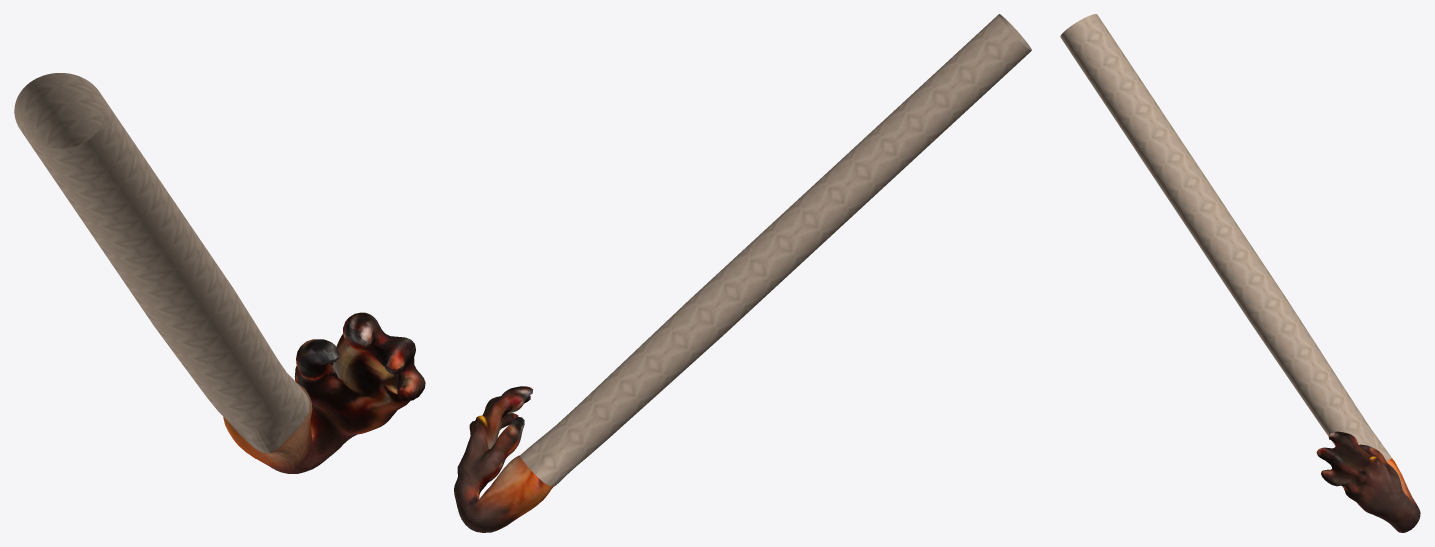
Rendered from fox-grip-v4.glb.
3 renders of one model, left to right at view 1: azimuth 30°, elevation 25°; view 2: azimuth 150°, elevation 25°; view 3: azimuth 270°, elevation 25°, orthographic. The views are drawn at different scales.
Visible parts, largest first — view 1: fox-card-grip; view 2: fox-card-grip; view 3: fox-card-grip.
Part boxes in pixels (x1,y1,x2,y2): fox-card-grip: (14, 73, 425, 473); fox-card-grip: (454, 14, 1031, 532); fox-card-grip: (1060, 14, 1420, 532).
Bounding box in the file's own units: 1.02 × 1.12 × 0.961.
Materials: 2 (2 with a texture image).
